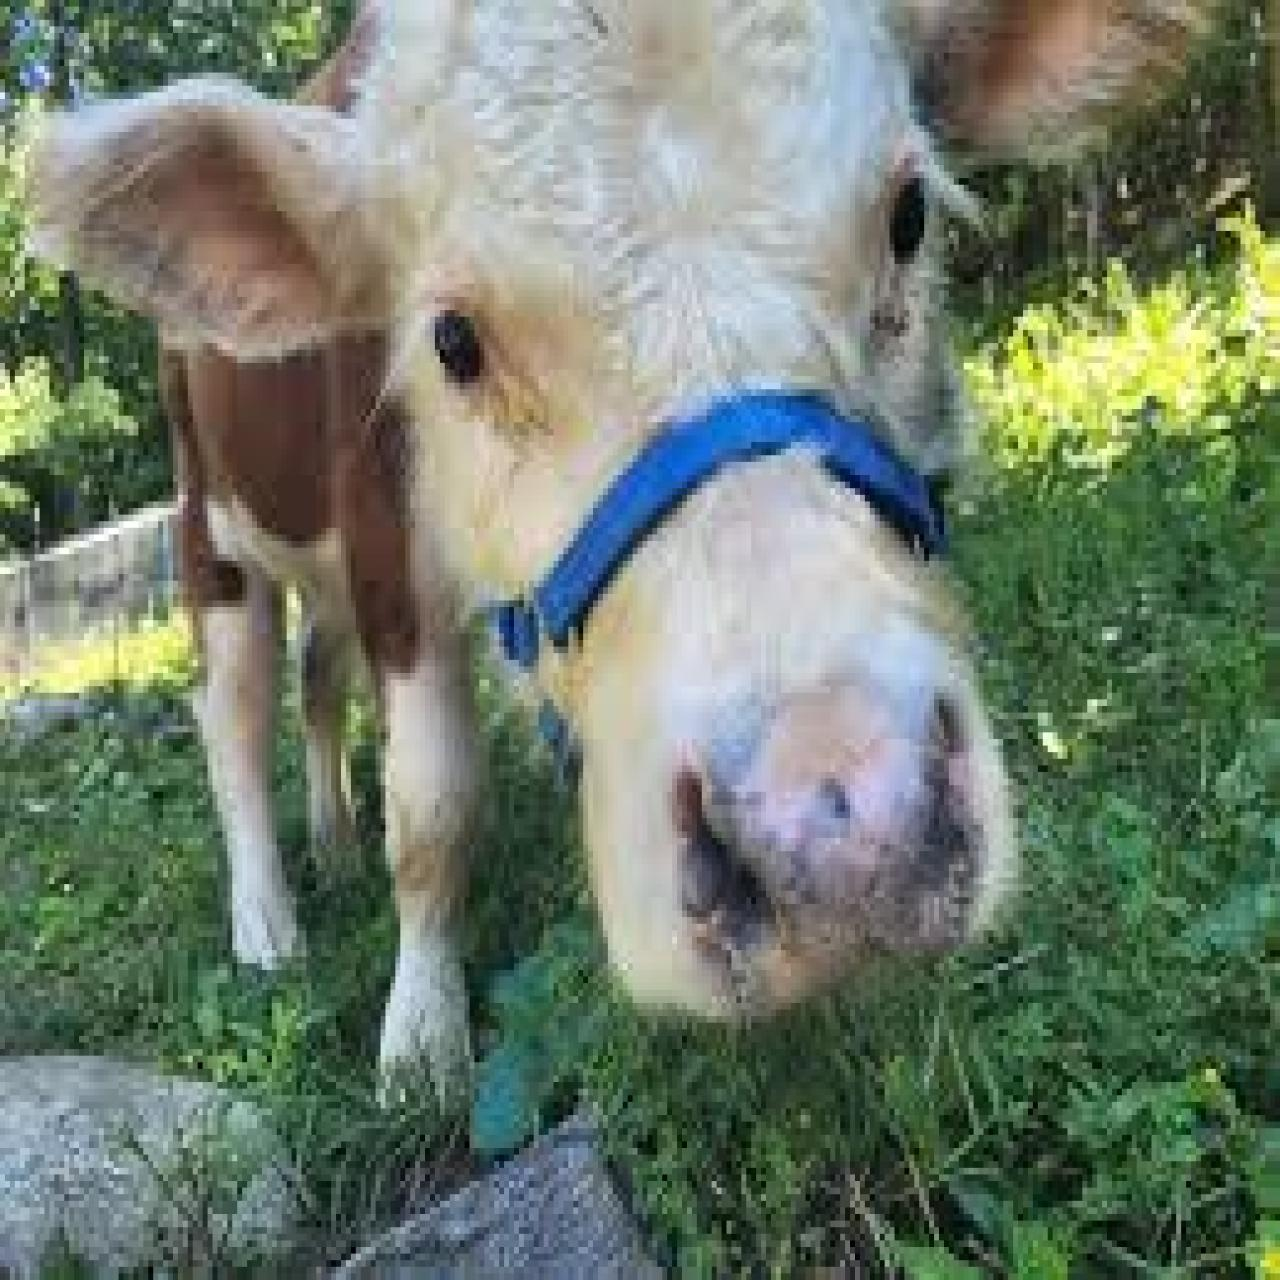cow: (22, 0, 1213, 1108)
